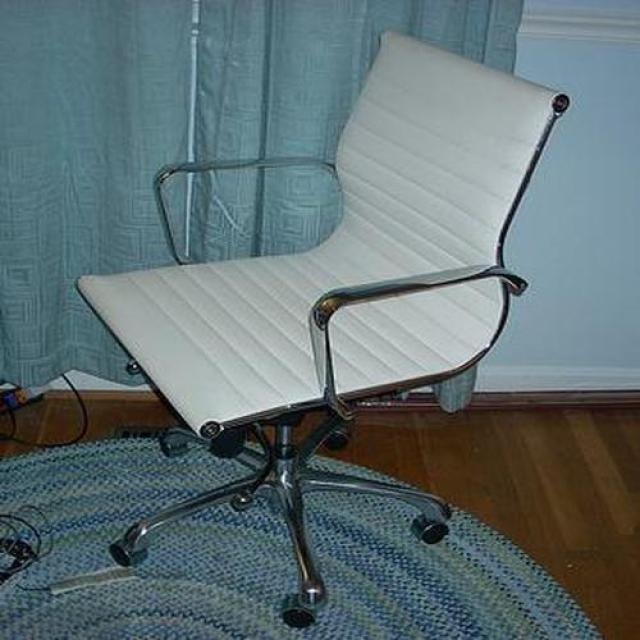swivelchair: (76, 32, 571, 630)
